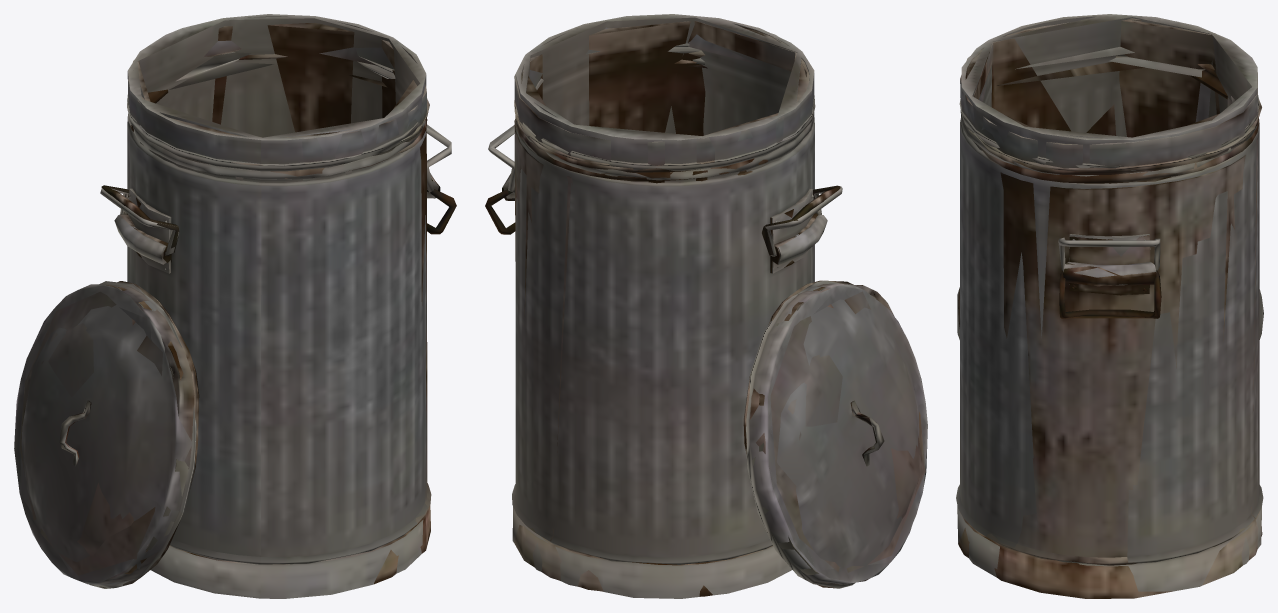
File: metal_trash_can.glb
3 renders of one model, left to right at view 1: azimuth 30°, elevation 25°; view 2: azimuth 150°, elevation 25°; view 3: azimuth 270°, elevation 25°, orthographic.
Parts seen in each view (by area): view 1: metal_trash_can_handle_left, metal_trash_can_handle_left_lo, metal_trash_can_rust_lo, metal_trash_can_rust_handle_left, metal_trash_can_rust, metal_trash_can_rust_handle_left_lo; view 2: metal_trash_can_handle_left, metal_trash_can_handle_left_lo, metal_trash_can_rust_lo, metal_trash_can_rust, metal_trash_can_rust_handle_left, metal_trash_can_rust_handle_left_lo; view 3: metal_trash_can_handle_left, metal_trash_can_rust, metal_trash_can_rust_lo, metal_trash_can_handle_left_lo, metal_trash_can_rust_handle_left.
Part boxes in pixels (bbox=[...]): metal_trash_can_handle_left: bbox=[14, 14, 451, 598]; metal_trash_can_handle_left_lo: bbox=[19, 16, 423, 578]; metal_trash_can_rust_lo: bbox=[137, 23, 427, 482]; metal_trash_can_rust_handle_left: bbox=[40, 185, 456, 587]; metal_trash_can_rust: bbox=[119, 22, 440, 584]; metal_trash_can_rust_handle_left_lo: bbox=[19, 291, 170, 579]; metal_trash_can_handle_left: bbox=[488, 15, 927, 598]; metal_trash_can_handle_left_lo: bbox=[520, 14, 892, 570]; metal_trash_can_rust_lo: bbox=[515, 21, 807, 535]; metal_trash_can_rust: bbox=[502, 24, 817, 596]; metal_trash_can_rust_handle_left: bbox=[485, 185, 919, 588]; metal_trash_can_rust_handle_left_lo: bbox=[764, 285, 925, 572]; metal_trash_can_handle_left: bbox=[956, 14, 1263, 591]; metal_trash_can_rust: bbox=[958, 18, 1262, 598]; metal_trash_can_rust_lo: bbox=[967, 20, 1257, 547]; metal_trash_can_handle_left_lo: bbox=[961, 14, 1257, 552]; metal_trash_can_rust_handle_left: bbox=[958, 270, 1161, 328].
Size of the model in its own units: 0.7771 by 0.9062 by 0.5533.
Materials: 2 (2 with a texture image).
